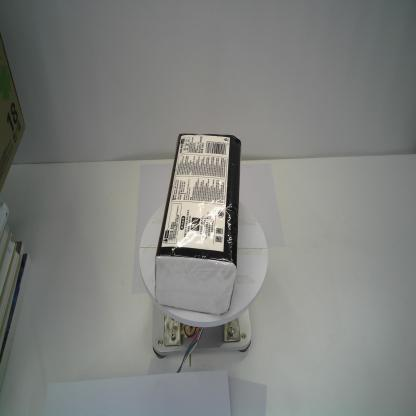Tissue: (153, 130, 243, 318)
